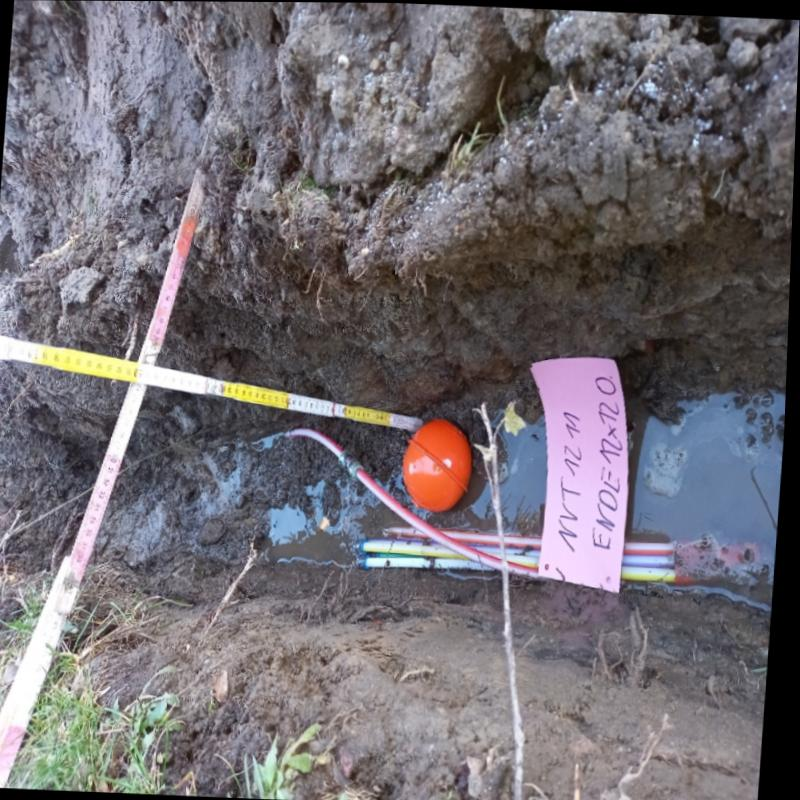Kugelmarker: (408, 419, 473, 508)
